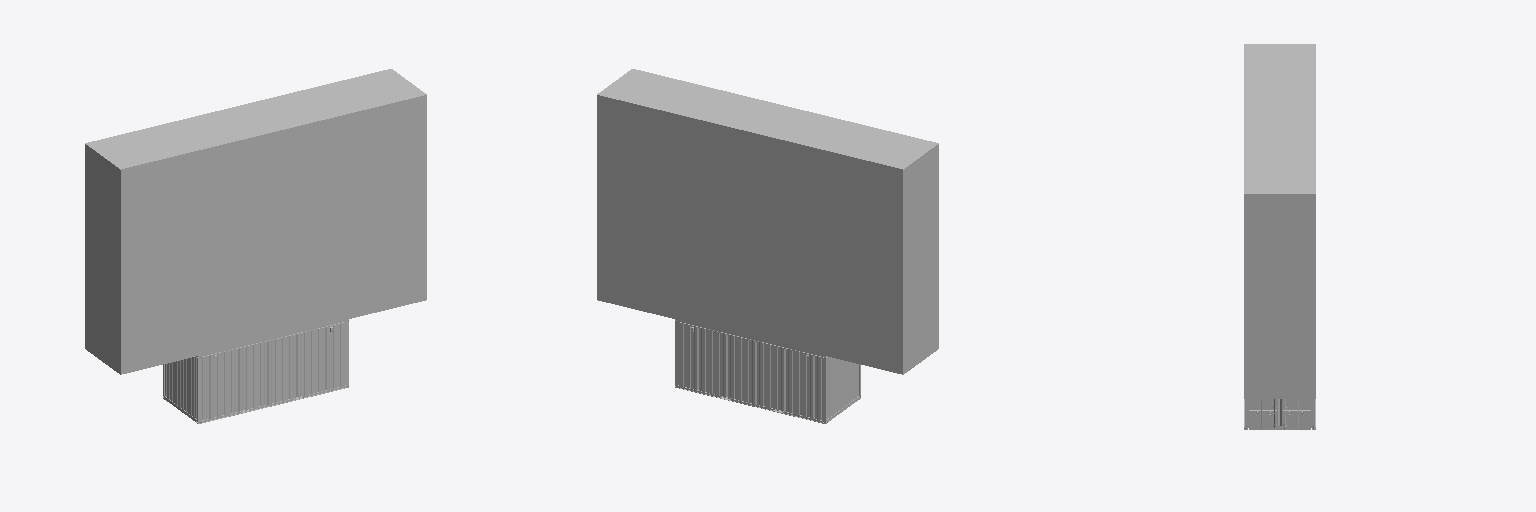
File: c20ft_front.obj
3 views of the same model, side by side, from view 1: azimuth 30°, elevation 25°; view 2: azimuth 150°, elevation 25°; view 3: azimuth 270°, elevation 25° (orthographic).
Parts seen in each view (by area): view 1: CARGO_ITEMS_7_IRSIZE, CARGO_ITEMS_4_IRSIZE, SHELL, CARGO_ITEMS_2_IRSIZE, CARGO_ITEMS_9_IRSIZE, CARGO_ITEMS_1_IRSIZE, CARGO_ITEMS_5_IRSIZE, CARGO_ITEMS_8_IRSIZE, CARGO_ITEMS_6_IRSIZE, CARGO_ITEMS_3_IRSIZE, FRAME; view 2: CARGO_ITEMS_7_IRSIZE, CARGO_ITEMS_9_IRSIZE, SHELL, CARGO_ITEMS_3_IRSIZE, CARGO_ITEMS_8_IRSIZE, CARGO_ITEMS_6_IRSIZE, CARGO_ITEMS_4_IRSIZE, CARGO_ITEMS_1_IRSIZE, CARGO_ITEMS_5_IRSIZE, CARGO_ITEMS_2_IRSIZE, FRAME; view 3: CARGO_ITEMS_9_IRSIZE, CARGO_ITEMS_8_IRSIZE, CARGO_ITEMS_6_IRSIZE, CARGO_ITEMS_3_IRSIZE, CARGO_ITEMS_7_IRSIZE, FRAME.
Part boxes in pixels (bbox=[...]): CARGO_ITEMS_7_IRSIZE: bbox=[85, 108, 271, 237]; CARGO_ITEMS_4_IRSIZE: bbox=[85, 201, 271, 305]; SHELL: bbox=[165, 323, 345, 420]; CARGO_ITEMS_2_IRSIZE: bbox=[198, 251, 349, 355]; CARGO_ITEMS_9_IRSIZE: bbox=[240, 69, 426, 199]; CARGO_ITEMS_1_IRSIZE: bbox=[85, 274, 271, 374]; CARGO_ITEMS_5_IRSIZE: bbox=[198, 182, 349, 286]; CARGO_ITEMS_8_IRSIZE: bbox=[208, 88, 349, 208]; CARGO_ITEMS_6_IRSIZE: bbox=[275, 163, 426, 266]; CARGO_ITEMS_3_IRSIZE: bbox=[275, 232, 426, 336]; FRAME: bbox=[163, 319, 348, 423]; CARGO_ITEMS_7_IRSIZE: bbox=[752, 116, 938, 237]; CARGO_ITEMS_9_IRSIZE: bbox=[597, 69, 764, 199]; SHELL: bbox=[678, 323, 858, 420]; CARGO_ITEMS_3_IRSIZE: bbox=[597, 232, 748, 335]; CARGO_ITEMS_8_IRSIZE: bbox=[674, 88, 861, 218]; CARGO_ITEMS_6_IRSIZE: bbox=[597, 163, 748, 267]; CARGO_ITEMS_4_IRSIZE: bbox=[752, 201, 938, 305]; CARGO_ITEMS_1_IRSIZE: bbox=[754, 271, 938, 374]; CARGO_ITEMS_5_IRSIZE: bbox=[687, 187, 825, 286]; CARGO_ITEMS_2_IRSIZE: bbox=[713, 263, 825, 355]; FRAME: bbox=[675, 319, 860, 423]; CARGO_ITEMS_9_IRSIZE: bbox=[1244, 156, 1315, 261]; CARGO_ITEMS_8_IRSIZE: bbox=[1244, 83, 1315, 155]; CARGO_ITEMS_6_IRSIZE: bbox=[1244, 262, 1315, 330]; CARGO_ITEMS_3_IRSIZE: bbox=[1244, 331, 1315, 398]; CARGO_ITEMS_7_IRSIZE: bbox=[1244, 44, 1315, 92]; FRAME: bbox=[1244, 399, 1315, 429].
Bounding box in the file's own units: 12.14 × 10.36 × 2.45.